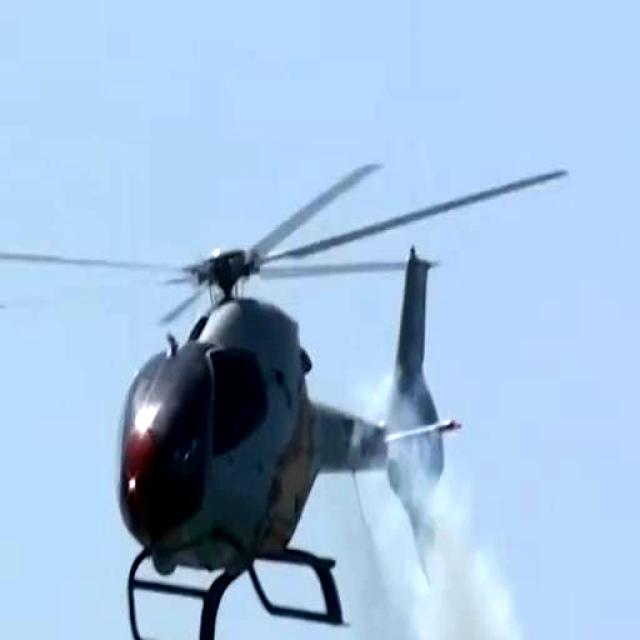drone: (0, 161, 561, 640)
